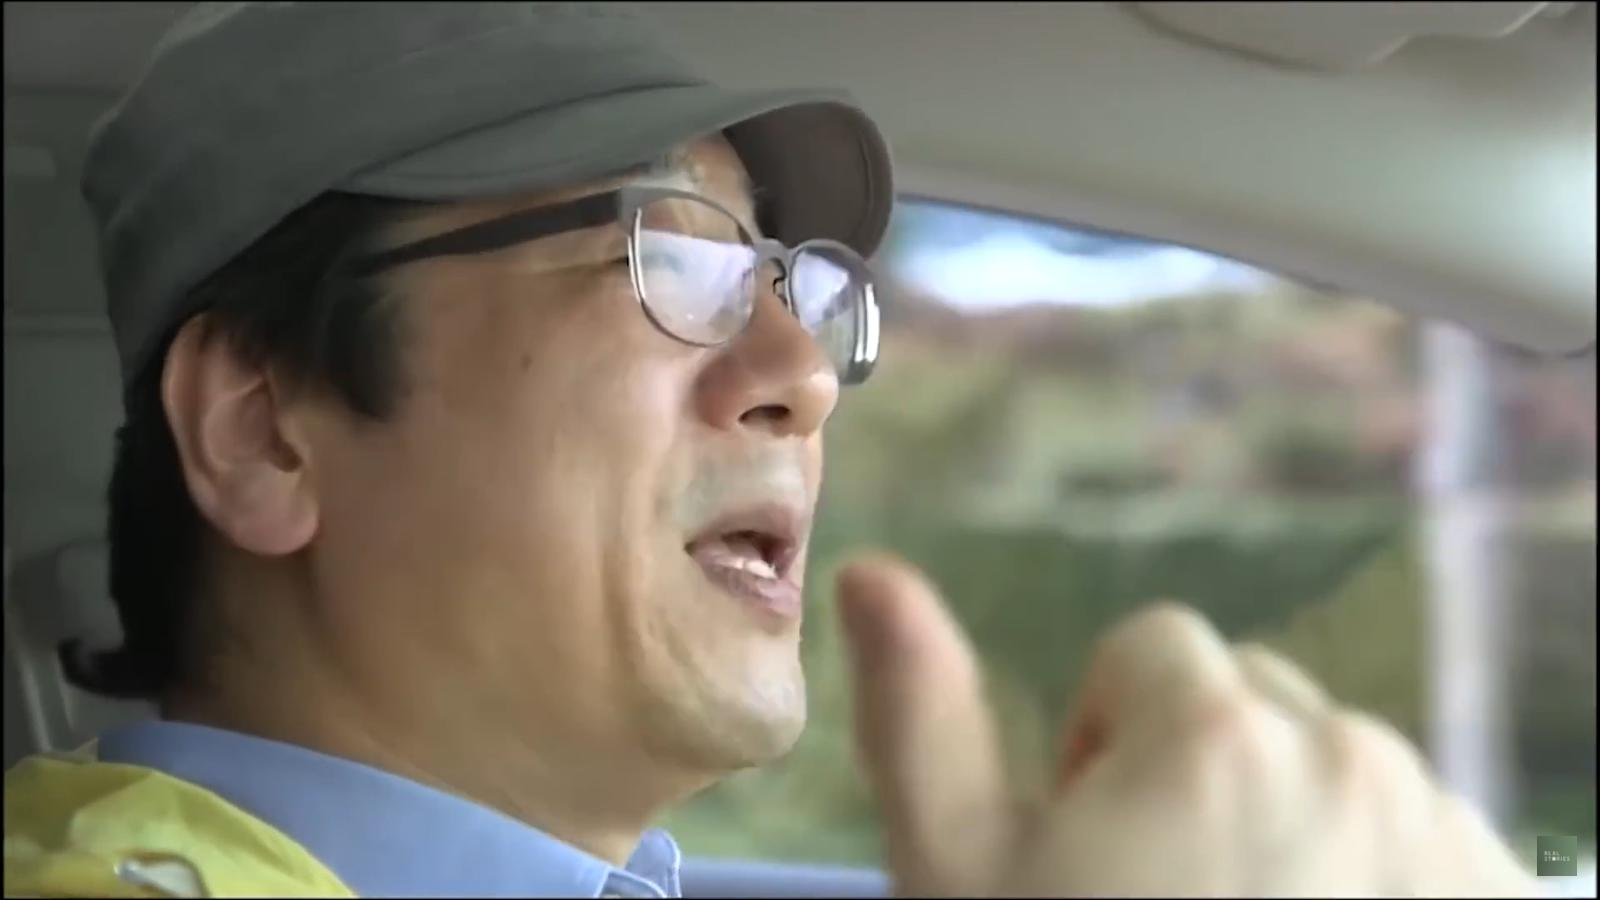without_mask: (402, 206, 798, 756)
